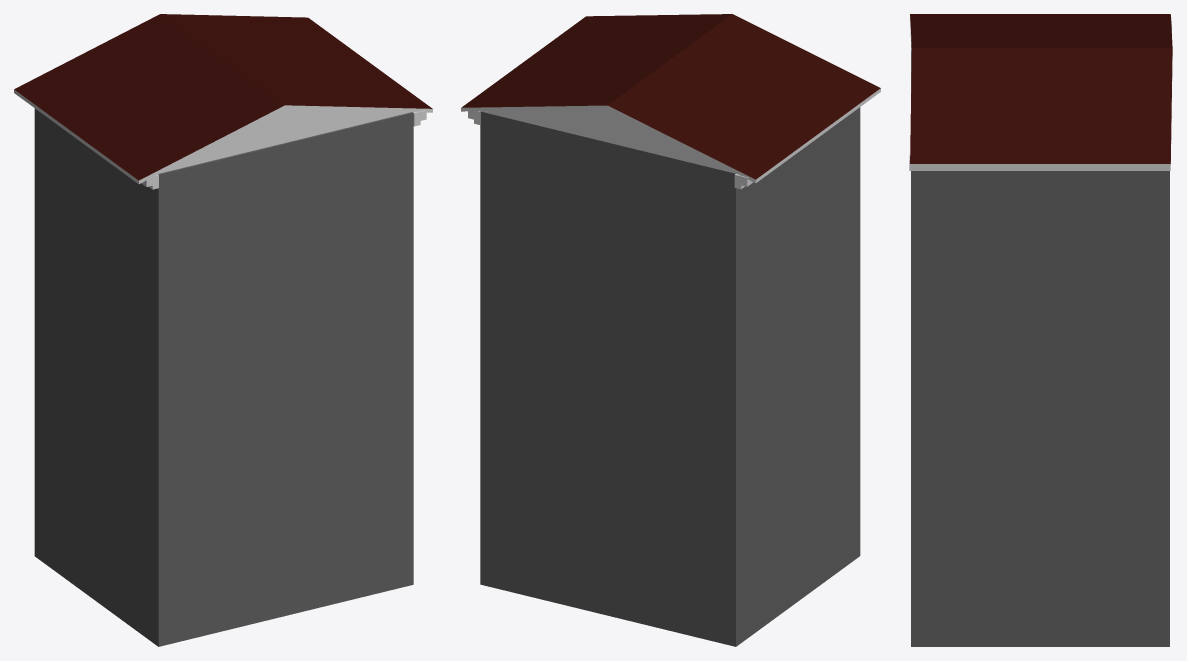
Rendered from MaisonGrande.glb.
3 views of the same model, side by side, from view 1: azimuth 30°, elevation 25°; view 2: azimuth 150°, elevation 25°; view 3: azimuth 270°, elevation 25° (orthographic). The views are drawn at different scales.
Visible parts, largest first — view 1: Maison, Cube.002; view 2: Maison, Cube.002; view 3: Maison, Cube.002, Maison.001, EmplacementFenêtre, EmplacementFenêtre2, EmplacementFenêtre3, EmplacementFenêtre4, FenêtresPoulis3, FenêtresPoulis2, FenêtresPoulis.
Part boxes in pixels (x1,y1,x2,y2): Maison: (34, 108, 413, 646); Cube.002: (14, 14, 432, 189); Maison: (480, 107, 860, 646); Cube.002: (461, 14, 880, 189); Maison: (911, 39, 1169, 646); Cube.002: (909, 14, 1172, 170); Maison.001: (978, 473, 1102, 646); EmplacementFenêtre: (1084, 222, 1157, 318); EmplacementFenêtre2: (923, 222, 996, 318); EmplacementFenêtre3: (923, 359, 996, 454); EmplacementFenêtre4: (1084, 359, 1157, 454); FenêtresPoulis3: (948, 179, 977, 205); FenêtresPoulis2: (1026, 179, 1053, 205); FenêtresPoulis: (1104, 179, 1130, 205).
Size of the model in its own units: 5.74 by 9.52 by 4.26.
